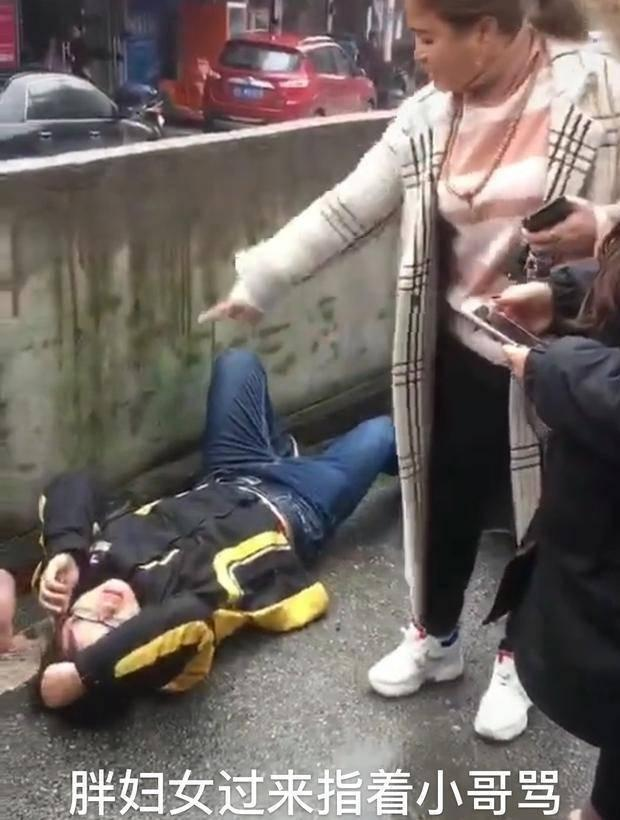down: (13, 344, 391, 736)
up: (325, 3, 606, 744)
